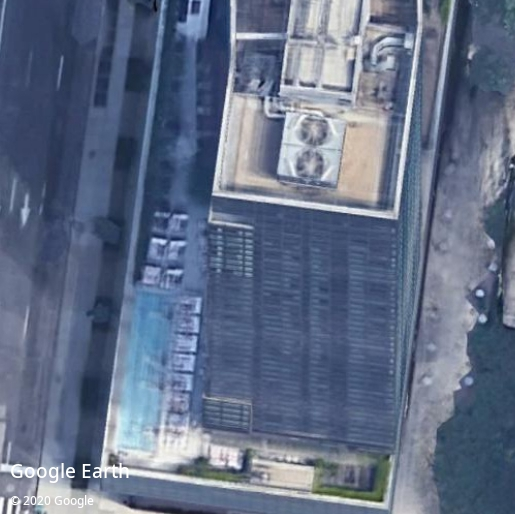Vent: (299, 116, 329, 145), (295, 151, 325, 180)
